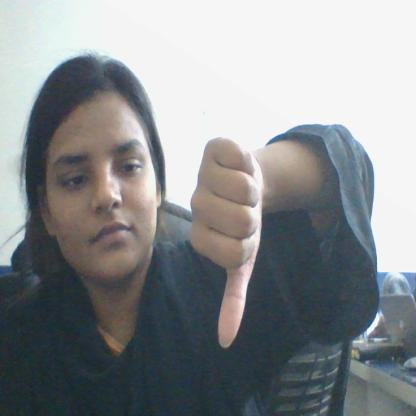thumbs-down: (185, 130, 265, 349)
